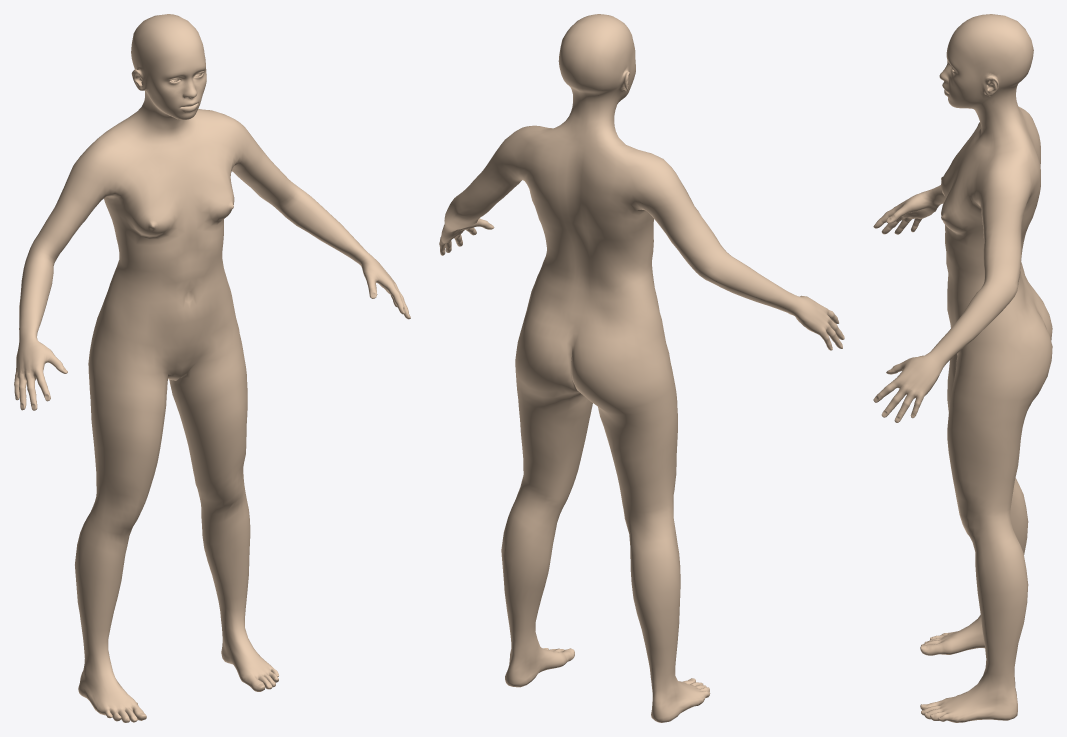
The model's file is female_Rectangle.glb.
3 renders of one model, left to right at view 1: azimuth 30°, elevation 25°; view 2: azimuth 150°, elevation 25°; view 3: azimuth 270°, elevation 25°, orthographic. The views are drawn at different scales.
Visible parts, largest first — view 1: female_Rectangle; view 2: female_Rectangle; view 3: female_Rectangle.
Part boxes in pixels (x1=…): female_Rectangle: x1=14, y1=14, x2=410, y2=722; female_Rectangle: x1=439, y1=14, x2=844, y2=722; female_Rectangle: x1=873, y1=14, x2=1052, y2=722.
Size of the model in its own units: 0.9189 by 1.5 by 0.3665.
